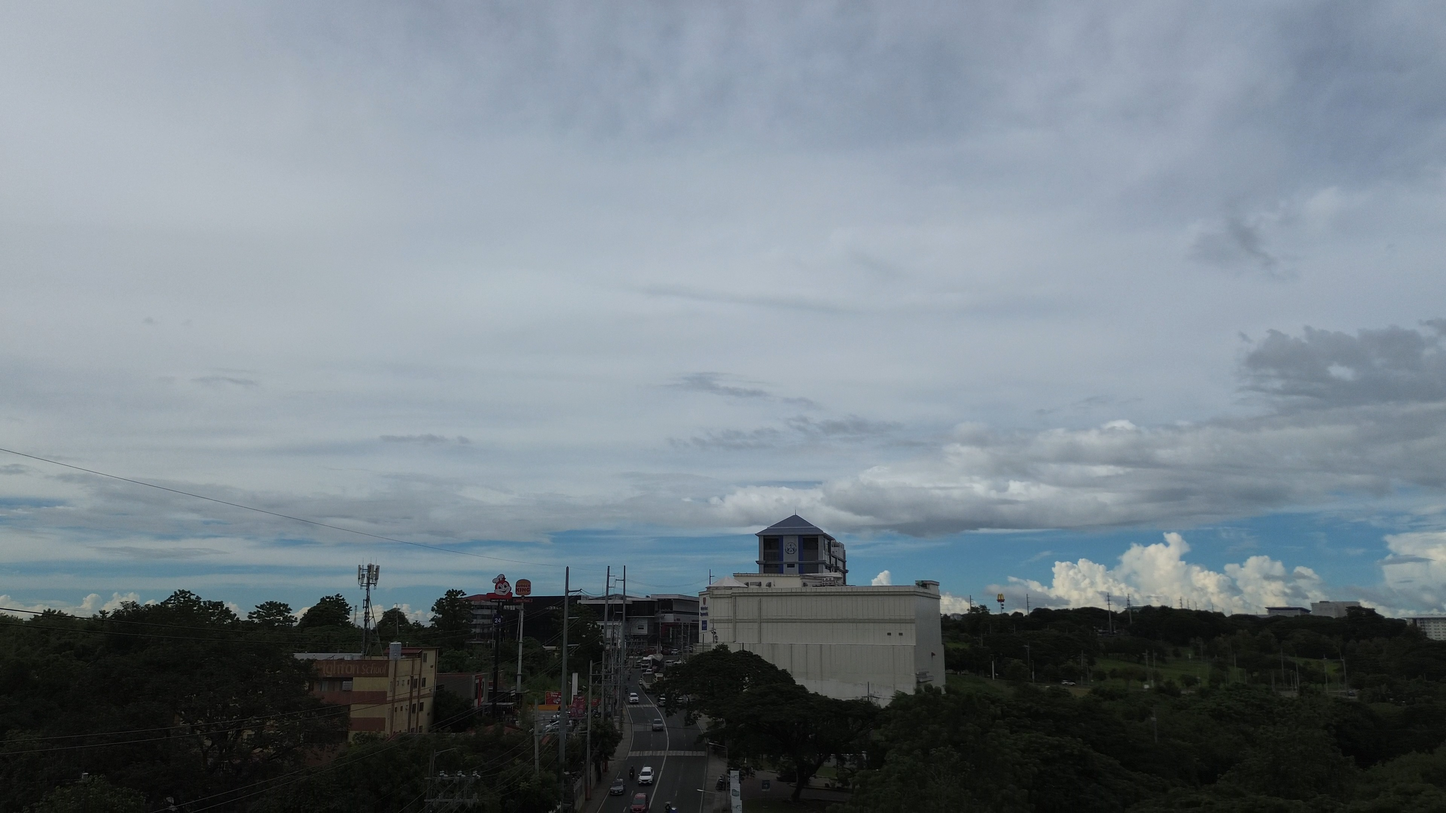car: (609, 776, 625, 795), (651, 718, 665, 731), (628, 693, 639, 704)
vehicle: (629, 793, 648, 813), (637, 766, 654, 785)
